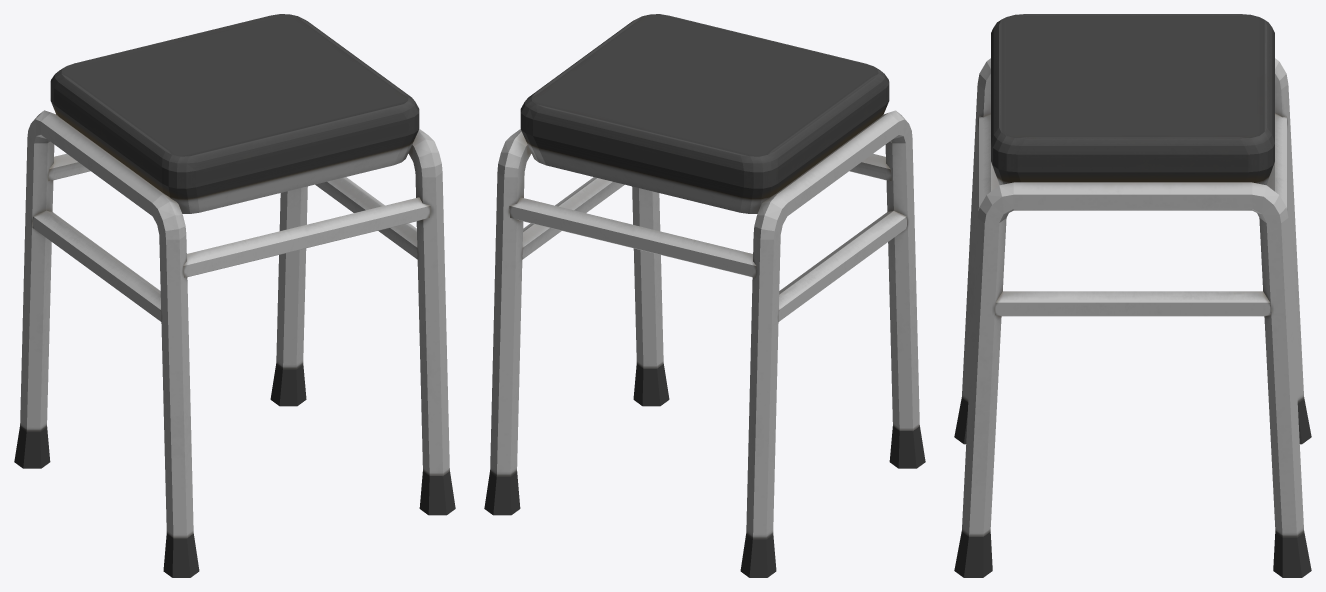
The model's file is P_Chair_004_S1_M01.obj.
3 views of the same model, side by side, from view 1: azimuth 30°, elevation 25°; view 2: azimuth 150°, elevation 25°; view 3: azimuth 270°, elevation 25° (orthographic). The views are drawn at different scales.
Bounding box in the file's own units: 0.4513 × 0.6097 × 0.4615.
1 material, 1 textured.
